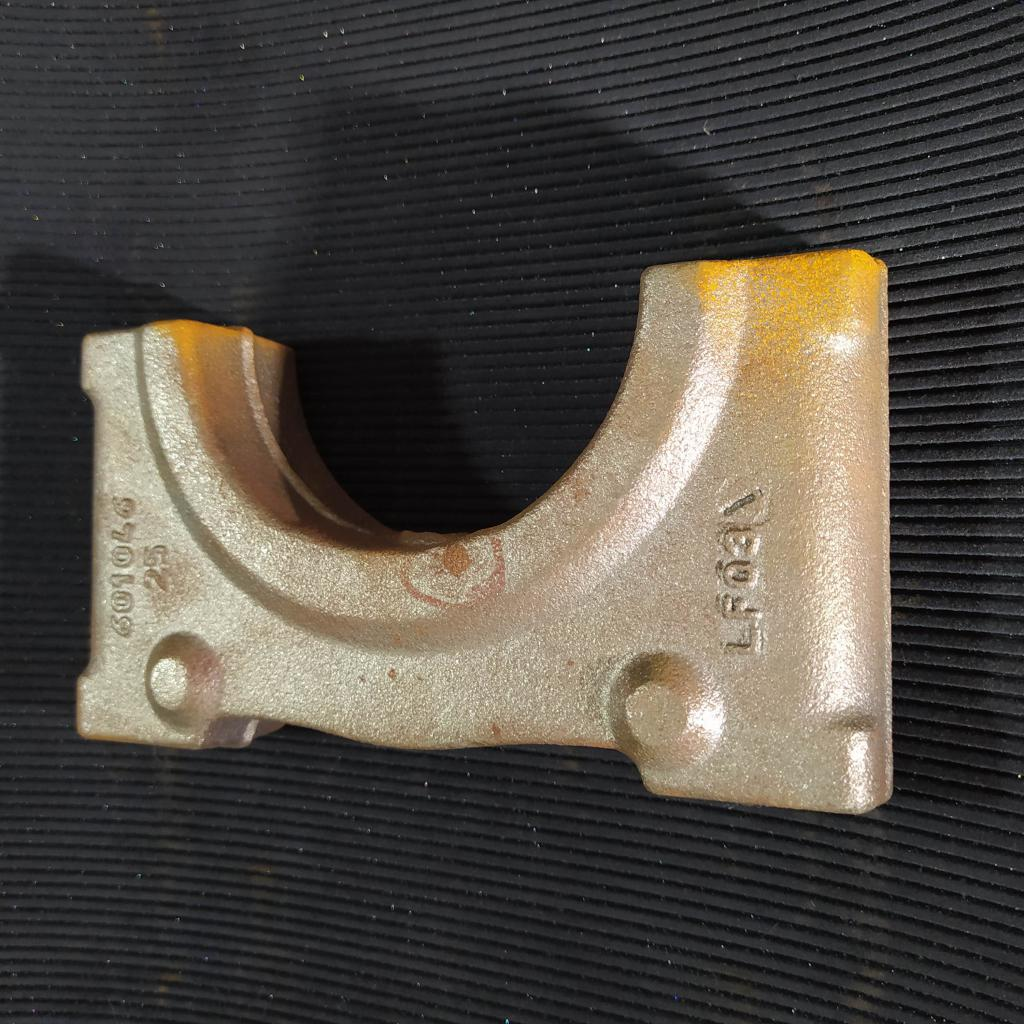mancha (ferrugem): (440, 542, 474, 579)
